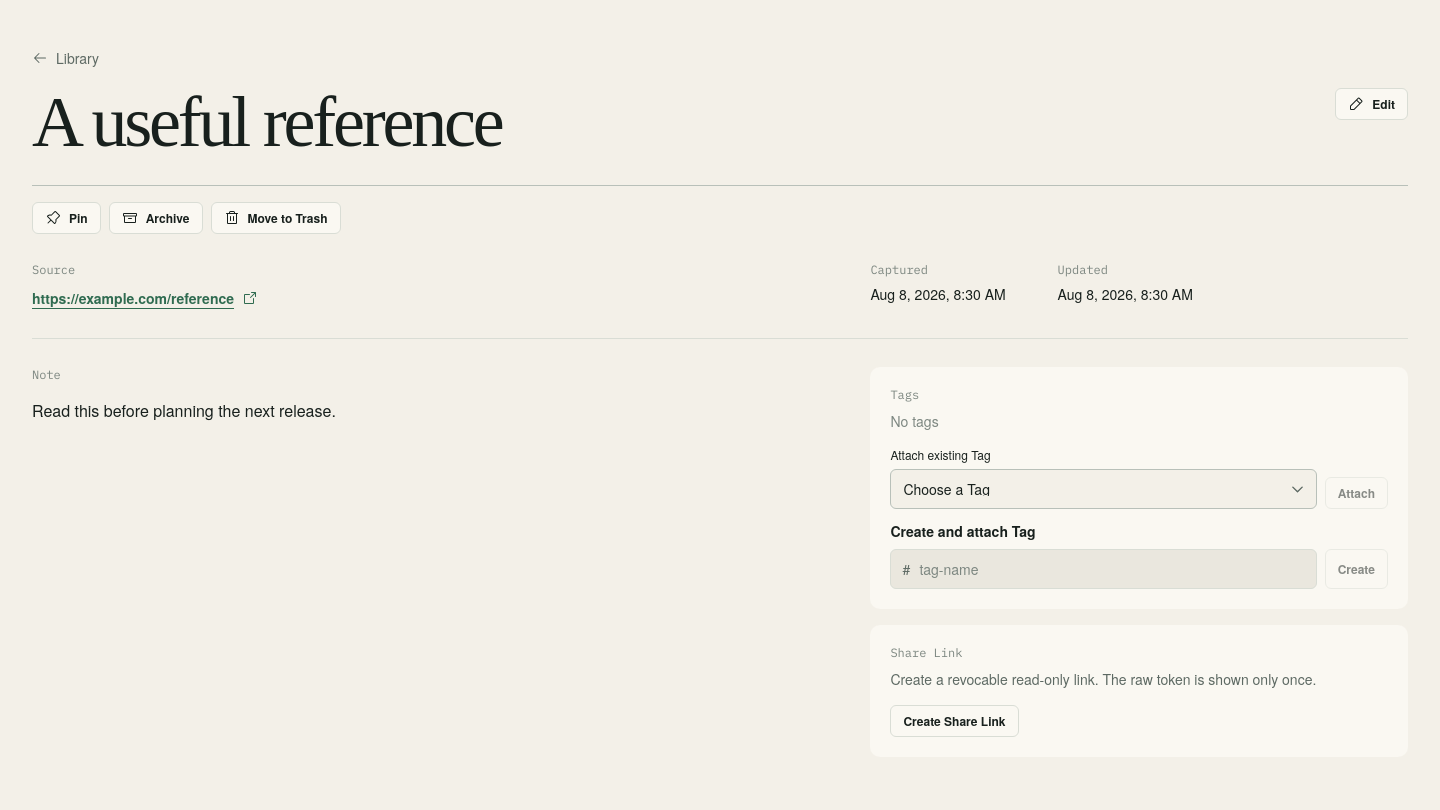
Scenario: Item detail feature › pins and unpins without a page reload
The width and height of the screenshot is (1440, 810).
Click the button "Pin" at point(66, 218), box [32, 202, 101, 234]
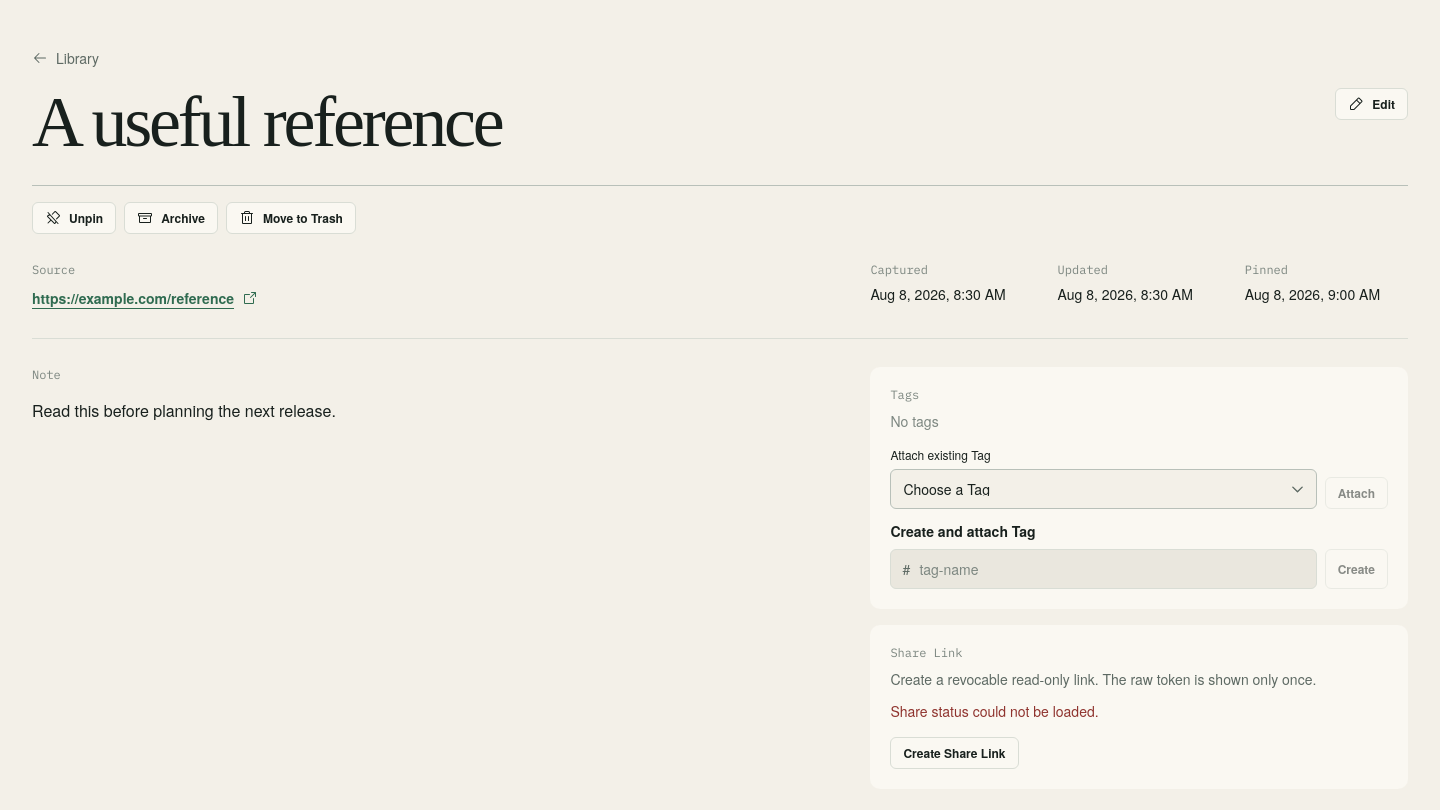
Now the button "Unpin" is shown, box [32, 202, 116, 234]
Now the text "Pinned" is shown, box [1245, 262, 1288, 277]
